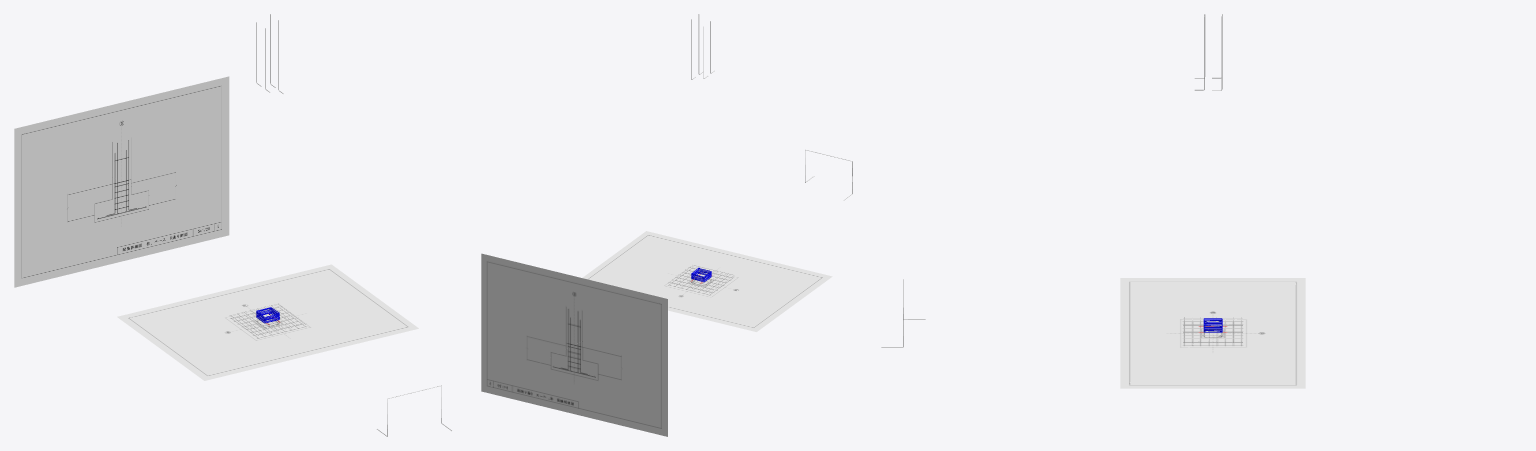
Rendered from 03柱主筋.glb.
3 renders of one model, left to right at view 1: azimuth 30°, elevation 25°; view 2: azimuth 150°, elevation 25°; view 3: azimuth 270°, elevation 25°, orthographic. The views are drawn at different scales.
Visible parts, largest first — view 1: 平面.001, 平面, 1360.012; view 2: 平面.001, 平面, 1360.012; view 3: 平面.
Boxes of the visible parts, x1,y1,x2,y2 form: 平面.001: (14,76,229,287); 平面: (117,264,418,380); 1360.012: (230,303,306,335); 平面.001: (481,253,667,436); 平面: (582,231,832,331); 1360.012: (668,264,734,292); 平面: (1120,278,1305,388).
Bounding box in the file's own units: 5940 × 9233 × 14520.
6 materials, 2 textured.
